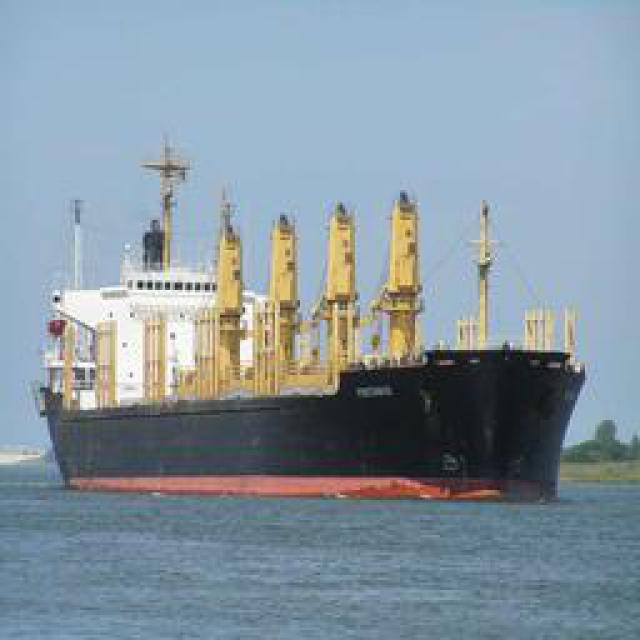Ship: (27, 145, 595, 498)
